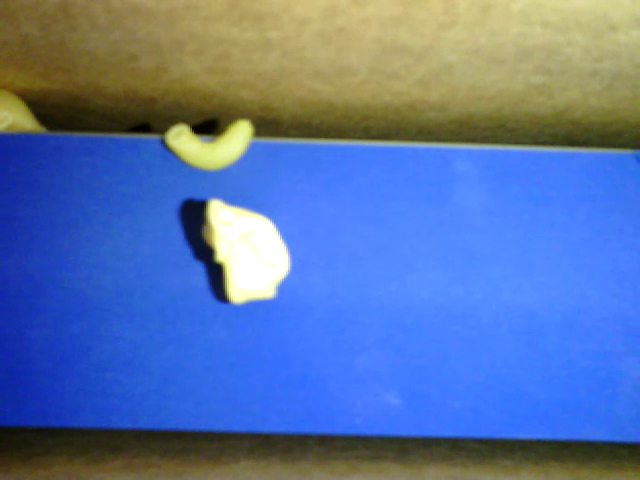elbow: (162, 120, 254, 169), (1, 106, 17, 129)
shell: (1, 88, 50, 135)
tortellini: (201, 196, 290, 304)
